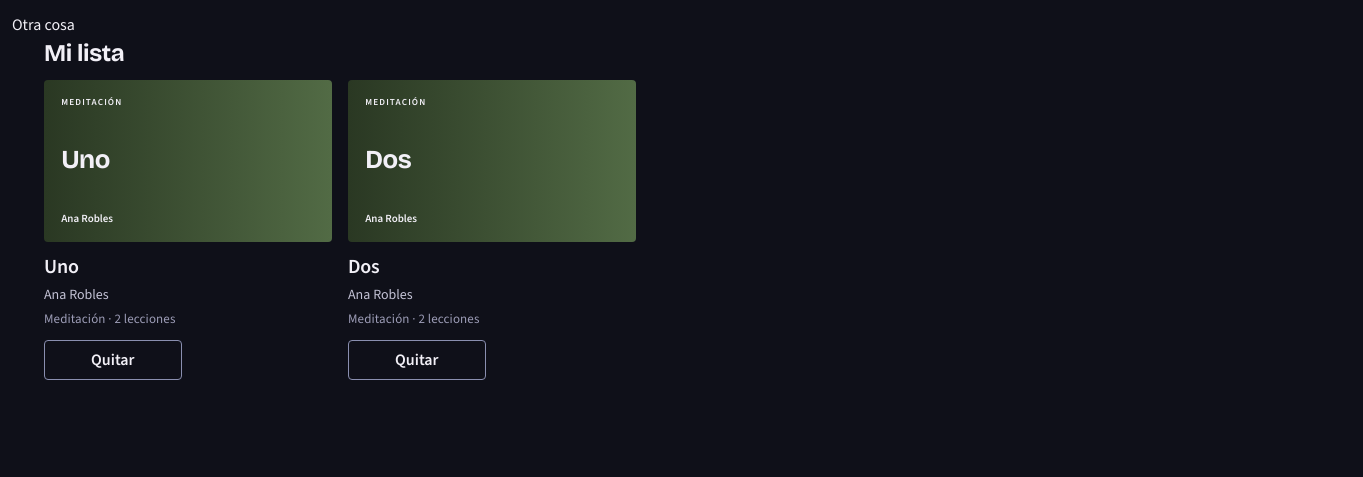
Test: el carrusel «Mi lista» del inicio (PA-20) › si no se pudo, la tarjeta se queda, y se ve y se dice
This screenshot has width=1363, height=477.
Click the 1st button "Quitar" at coordinates (113, 360), box left=44, top=340, right=182, bottom=380
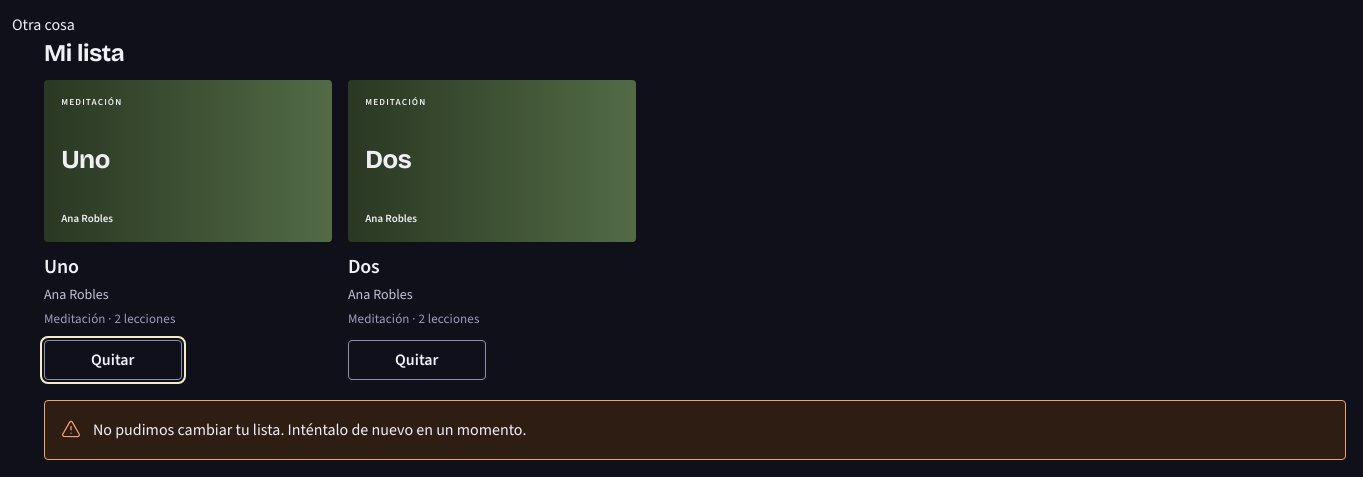
expect the text "No pudimos cambiar tu lista. Inténtalo de nuevo en un momento." is shown 2 times: met
